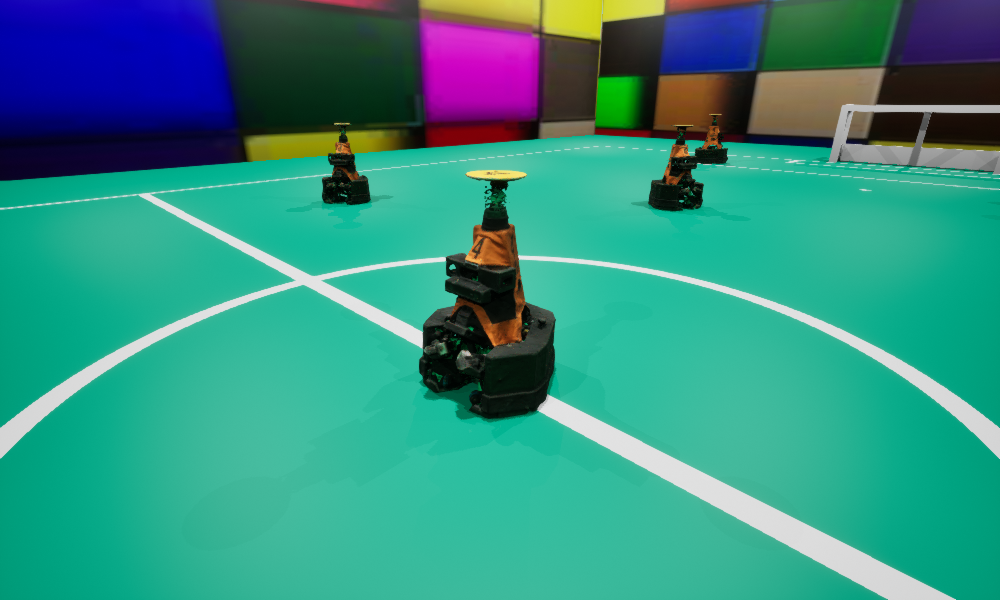o: (419, 170, 555, 417), (648, 125, 703, 210), (322, 123, 370, 203), (695, 114, 727, 163)
